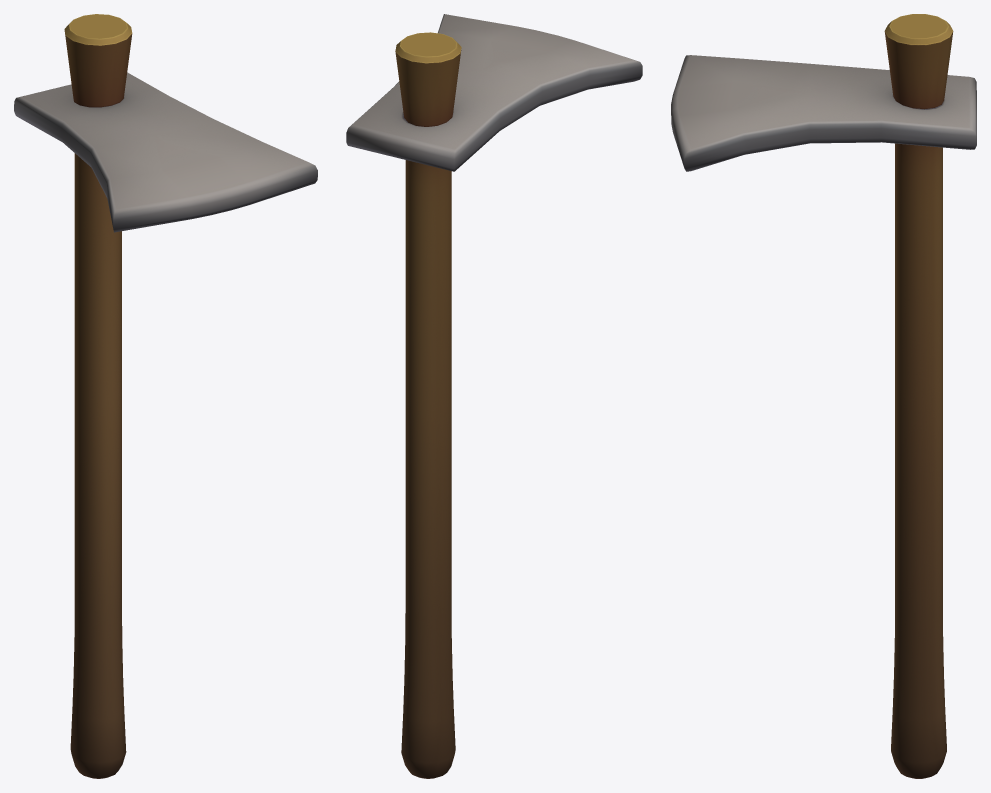
File: Hoe.fbx
3 renders of one model, left to right at view 1: azimuth 30°, elevation 25°; view 2: azimuth 150°, elevation 25°; view 3: azimuth 270°, elevation 25°, orthographic. The views are drawn at different scales.
Parts seen in each view (by area): view 1: Cylinder; view 2: Cylinder; view 3: Cylinder.
Part boxes in pixels (bbox=[...]): Cylinder: bbox=[14, 14, 317, 778]; Cylinder: bbox=[346, 14, 642, 778]; Cylinder: bbox=[671, 14, 976, 778].
Bounding box in the file's own units: 95.93 × 336 × 124.
1 material, 1 textured.
